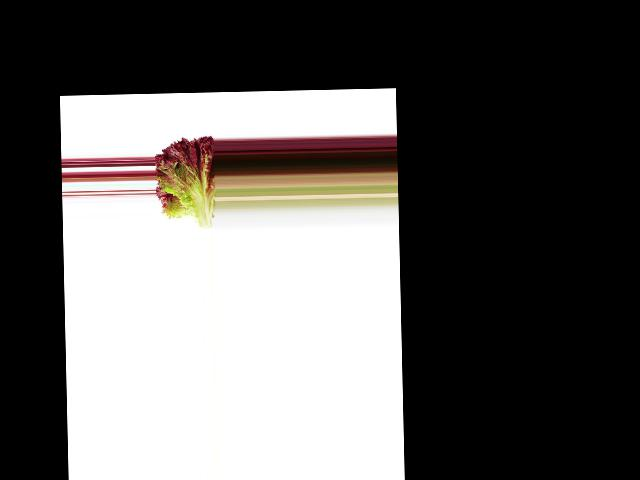lettuce: (155, 130, 216, 232)
